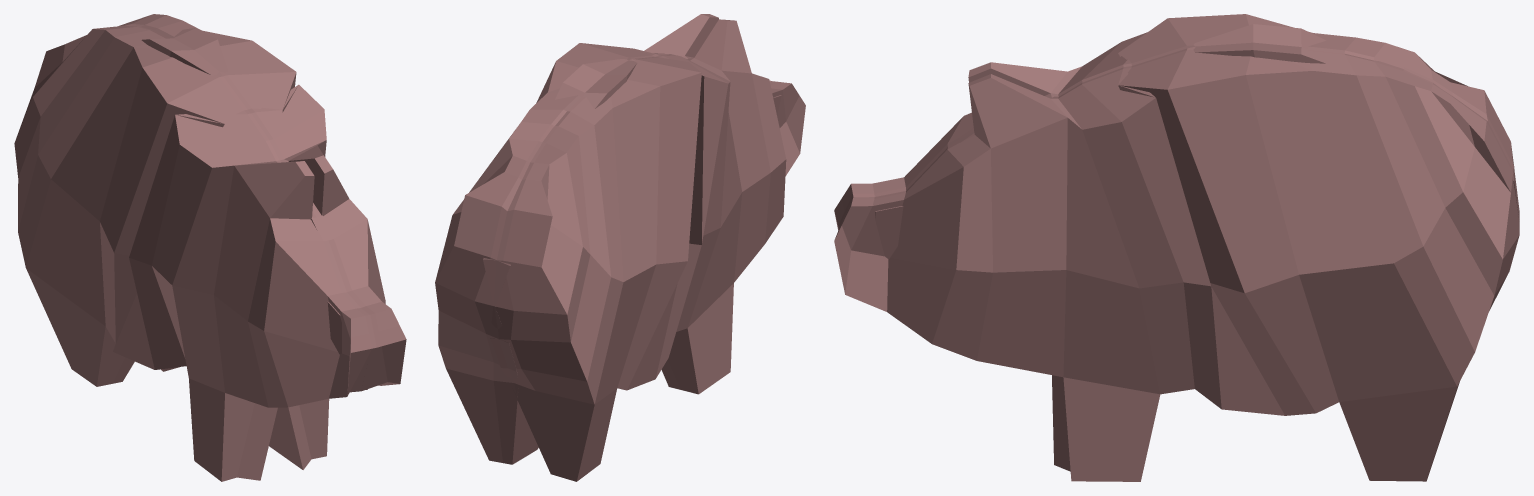
File: pig.obj
3 views of the same model, side by side, from view 1: azimuth 30°, elevation 25°; view 2: azimuth 150°, elevation 25°; view 3: azimuth 270°, elevation 25° (orthographic). The views are drawn at different scales.
Parts seen in each view (by area): view 1: Plane; view 2: Plane; view 3: Plane.
Boxes of the visible parts, left/top/right/bottom form: Plane: left=14, top=14, right=406, bottom=481; Plane: left=435, top=14, right=805, bottom=481; Plane: left=834, top=14, right=1519, bottom=481.
Size of the model in its own units: 2.36 by 4.97 by 7.36.
